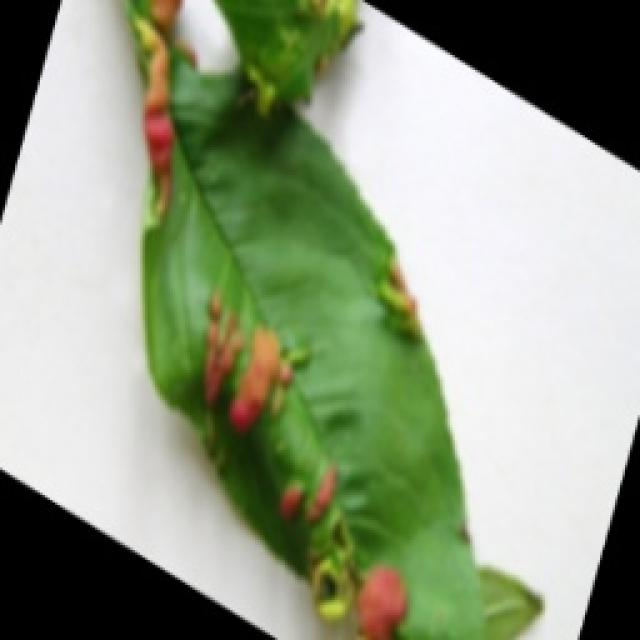peach_leaf_curl: (115, 0, 543, 638)
